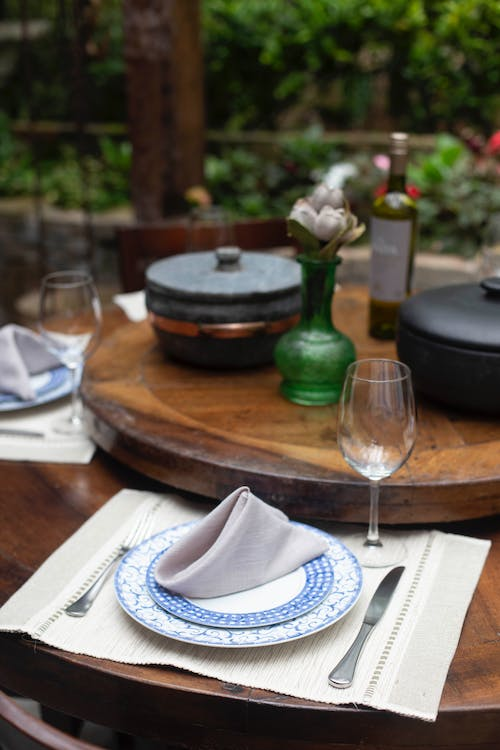alcohol: (366, 131, 420, 342)
knife: (325, 563, 409, 690)
